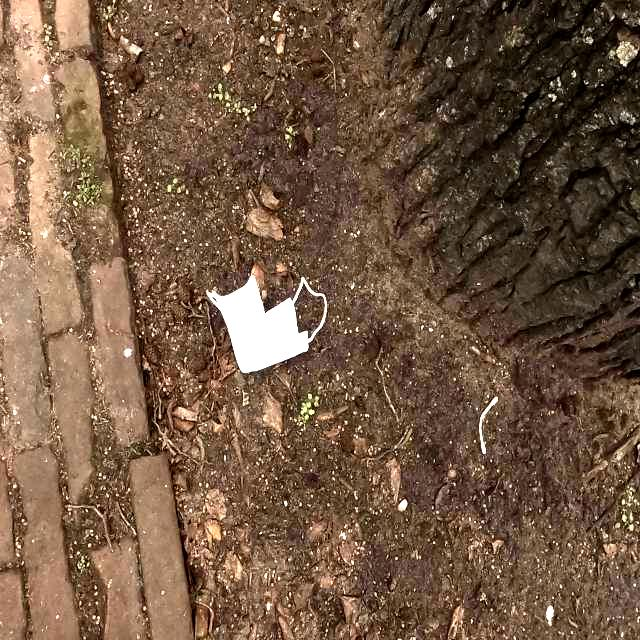Mask: (204, 273, 330, 377)
